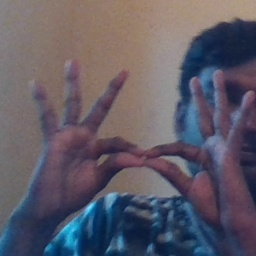B: (78, 93, 213, 199)
